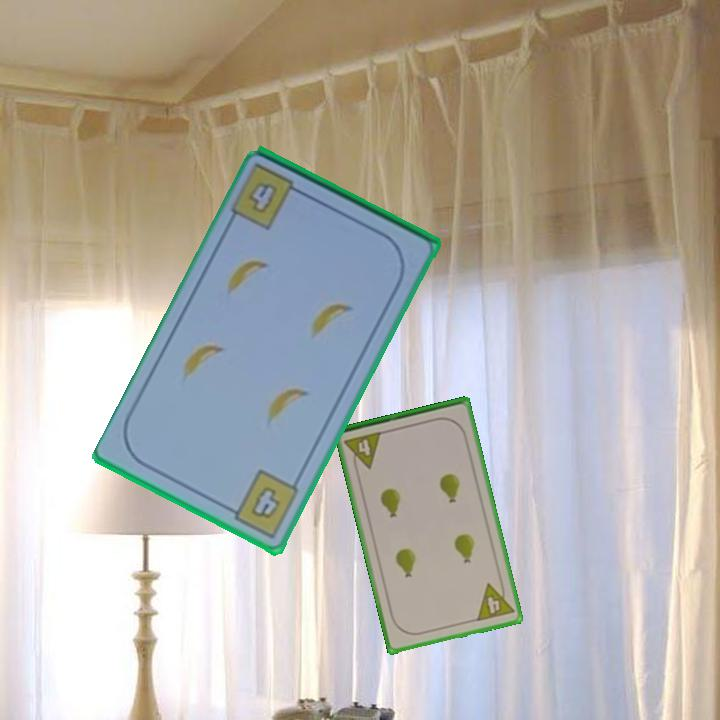4b: (222, 466, 302, 541), (245, 179, 281, 217)
4p: (473, 577, 517, 624), (341, 428, 385, 474)
